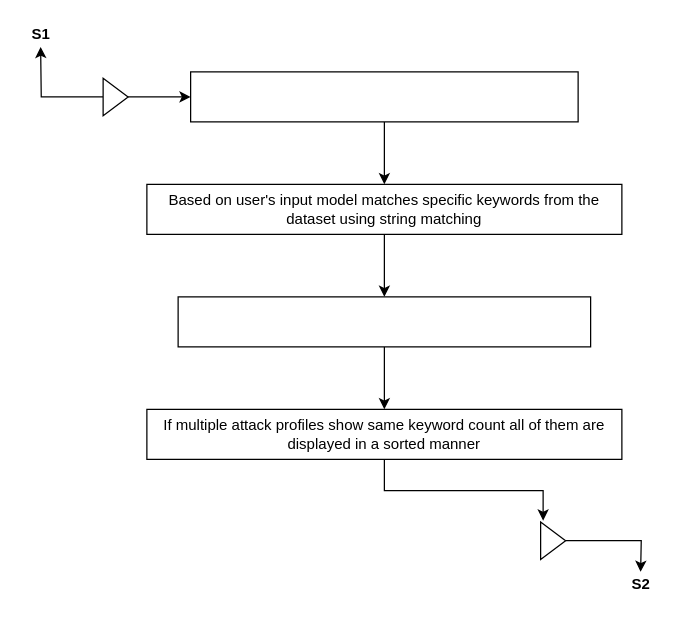
Image size: 680x618. Some labels were removed from this diagram. The centre of each missing label's shape, as x and y in pixels:
"Model displays possible attack profiles based of keywords matched" belongs at pixel 384 321.
"User enters the crime scenario in layman's term" belongs at pixel 383 96.
